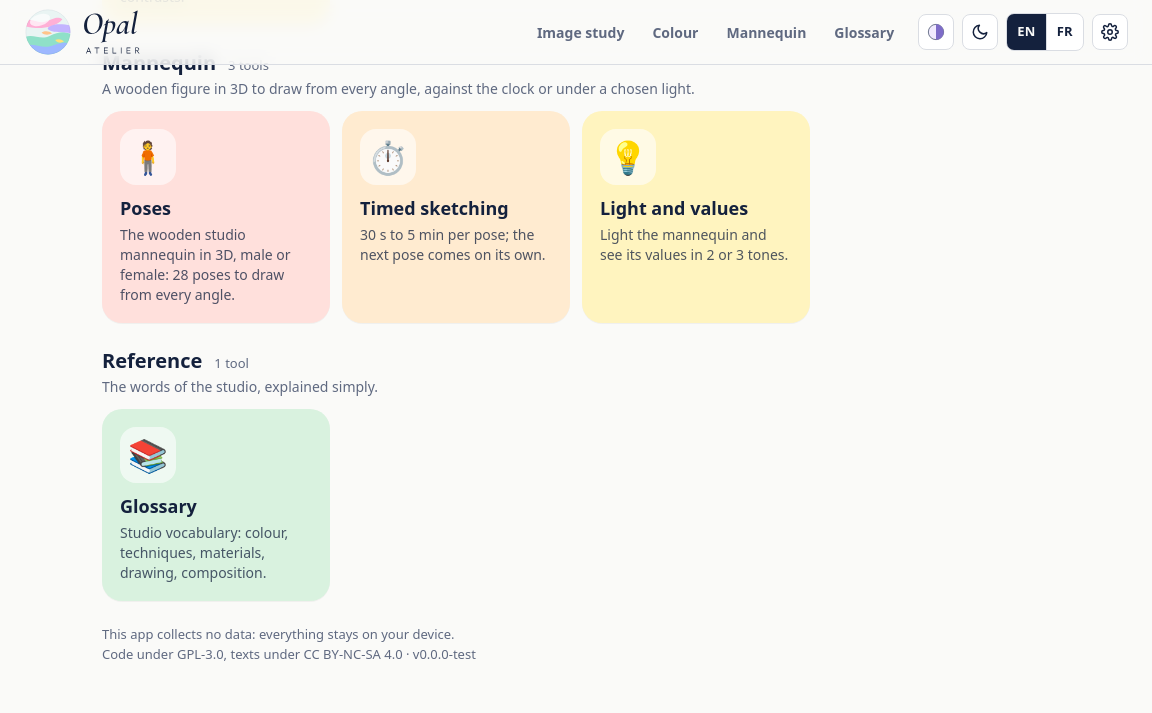
it: HomePage › opens the glossary
(page scrolled)
Click the link "Glossary": (216, 505) [102, 408, 330, 601]
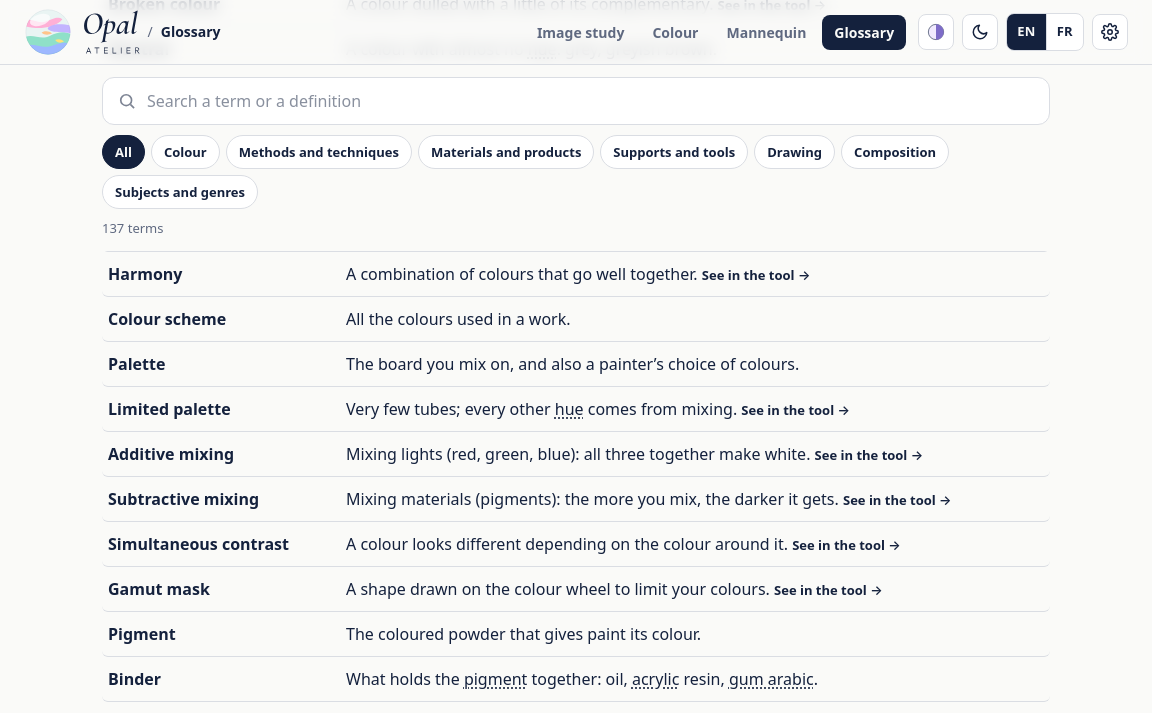
Result: the navigation bar named "Breadcrumb" shows "Glossary" at [161, 22, 221, 41]
